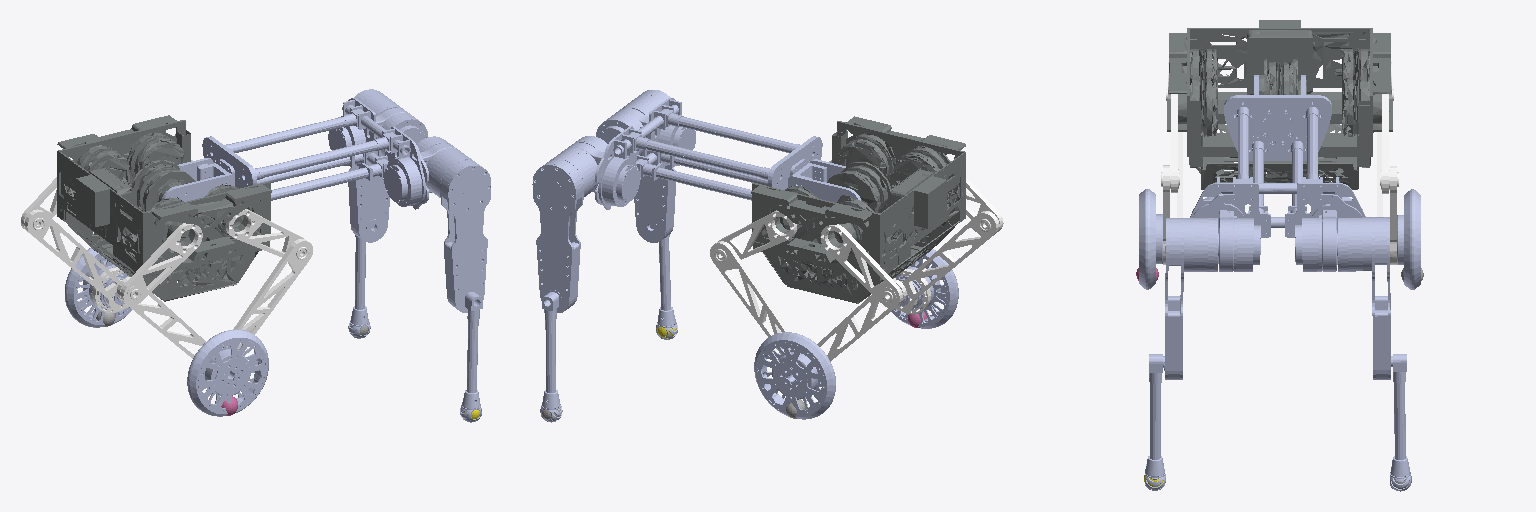
--- Render facts (derived) ---
Views: 3 orthographic renders of the robot side by side, from view 1: azimuth 30°, elevation 25°; view 2: azimuth 150°, elevation 25°; view 3: azimuth 270°, elevation 25°.
Robot: Wheel_legged_repair2 — 26 links, 25 joints (12 revolute, 6 continuous, 7 fixed); root link dummy_link; default pose: all joints at 0.
Visible links, largest first — view 1: base_link, waist_Link, Rhip_Link, Rwheel_Link, Lhip_Link, RB_hip_Link, LB_knee_Link, Lwheel_Link, RF_knee_Link, Rknee_Link, RF_hip_Link, Rabad_Link (+4 smaller); view 2: base_link, waist_Link, Lhip_Link, Lwheel_Link, Rhip_Link, LB_hip_Link, LF_knee_Link, RB_knee_Link, Rwheel_Link, Lknee_Link, LF_hip_Link, Labad_Link (+4 smaller); view 3: base_link, waist_Link, Rabad_Link, Labad_Link, Lhip_Link, Rhip_Link, Rwheel_Link, Lwheel_Link, Lknee_Link, Rknee_Link, LF_hip_Link, RF_hip_Link (+1 smaller).
Link boxes in pixels (bbox=[...]): base_link: bbox=[57, 115, 271, 301]; waist_Link: bbox=[161, 98, 425, 206]; Rhip_Link: bbox=[436, 156, 490, 312]; Rwheel_Link: bbox=[187, 329, 268, 416]; Lhip_Link: bbox=[348, 89, 390, 242]; RB_hip_Link: bbox=[120, 223, 202, 305]; LB_knee_Link: bbox=[24, 209, 128, 310]; Lwheel_Link: bbox=[65, 248, 131, 327]; RF_knee_Link: bbox=[226, 239, 312, 348]; Rknee_Link: bbox=[460, 292, 482, 422]; RF_hip_Link: bbox=[226, 209, 308, 259]; Rabad_Link: bbox=[413, 136, 467, 209]; base_link: bbox=[751, 116, 965, 303]; waist_Link: bbox=[598, 98, 860, 206]; Lhip_Link: bbox=[532, 156, 588, 312]; Lwheel_Link: bbox=[754, 332, 835, 419]; Rhip_Link: bbox=[632, 90, 675, 242]; LB_hip_Link: bbox=[820, 224, 902, 307]; LF_knee_Link: bbox=[710, 241, 819, 386]; RB_knee_Link: bbox=[895, 211, 999, 311]; Rwheel_Link: bbox=[891, 249, 958, 328]; Lknee_Link: bbox=[540, 292, 562, 422]; LF_hip_Link: bbox=[714, 210, 796, 261]; Labad_Link: bbox=[556, 136, 610, 209]; base_link: bbox=[1167, 20, 1392, 189]; waist_Link: bbox=[1190, 75, 1365, 237]; Rabad_Link: bbox=[1193, 194, 1260, 271]; Labad_Link: bbox=[1295, 195, 1362, 271]; Lhip_Link: bbox=[1362, 217, 1390, 379]; Rhip_Link: bbox=[1164, 218, 1193, 379]; Rwheel_Link: bbox=[1139, 189, 1162, 289]; Lwheel_Link: bbox=[1397, 189, 1420, 289]; Lknee_Link: bbox=[1390, 354, 1410, 491]; Rknee_Link: bbox=[1145, 354, 1164, 490]; LF_hip_Link: bbox=[1380, 94, 1398, 193]; RF_hip_Link: bbox=[1161, 94, 1179, 192].
Bounding box of the posed robot: 0.8139 × 0.51 × 0.5807 m (x, y, z).
18 mesh visuals loaded from 18 distinct referenced files (18 binary STL).

robot.urdf — Wheel_legged_repair2:
<?xml version="1.0" encoding="utf-8"?>
<!-- This URDF was automatically created by SolidWorks to URDF Exporter! Originally created by Stephen Brawner ([email redacted]) 
     Commit Version: 1.6.0-4-g7f85cfe  Build Version: 1.6.7995.38578
     For more information, please see http://wiki.ros.org/sw_urdf_exporter -->
<robot
  name="Wheel_legged_repair2">
  <gazebo>
    <plugin filename="libwheel_legged_hw_sim.so" name="gazebo_ros_control">
      <robotNamespace>/</robotNamespace>
      <robotParam>wheel_legged_description</robotParam>
      <robotSimType>ocs2/wheel_legged/LeggedHWSim</robotSimType>
    </plugin>
  </gazebo>
  <gazebo>
    <plugin filename="libgazebo_ros_p3d.so" name="p3d_base_controller">
      <alwaysOn>true</alwaysOn>
      <updateRate>1000.0</updateRate>
      <bodyName>base_link</bodyName>
      <topicName>ground_truth/state</topicName>
      <gaussianNoise>0</gaussianNoise>
      <frameName>world</frameName>
      <xyzOffsets>0 0 0</xyzOffsets>
      <rpyOffsets>0 0 0</rpyOffsets>
    </plugin>
  </gazebo>
  <link name="dummy_link">
    </link>
  <joint name="dummy_to_base_link" type="fixed">
    <parent link="dummy_link"/>
    <child link="base_link"/>
    <origin rpy="0 0 0" xyz="0 0 0"/>
  </joint>
  <link
    name="base_link">
    <inertial>
      <origin
        xyz="-0.0315927041891579 0.00071509554661818 0.0289337663641155"
        rpy="0 0 0" />
      <mass
        value="14.2740" />
      <inertia
        ixx="0.27466"
        ixy="0.00296"
        ixz="0.00836"
        iyy="0.13446"
        iyz="0.00133"
        izz="0.29099" />
    </inertial>
    <visual>
      <origin
        xyz="0 0 0"
        rpy="0 0 0" />
      <geometry>
        <mesh
          filename="package://wheel_legged_description/meshes_display/base_link.STL" />
      </geometry>
      <material
        name="">
        <color
          rgba="0.529411764705882 0.549019607843137 0.549019607843137 1" />
      </material>
    </visual>
    <collision>
      <origin
        xyz="0 0 0.02"
        rpy="0 0 0" />
      <geometry>
        <box size="0.28 0.33 0.213" />
      </geometry>
    </collision>
  </link>
  <joint name="base_imu_joint" type="fixed">
    <origin rpy="0. 0. 0." xyz="0. 0. 0."/>
    <parent link="base_link"/>
    <child link="base_imu"/>
  </joint>
  <!-- Imu link -->
  <link name="base_imu">
    <inertial>
      <mass value="0.01"/>
      <origin rpy="0 0 0" xyz="0 0 0"/>
      <inertia ixx="0.000001" ixy="0" ixz="0" iyy="0.000001" iyz="0" izz="0.000001"/>
    </inertial>
    <visual>
      <origin rpy="0 0 0" xyz="0 0 0"/>
      <geometry>
        <box size="0.015 0.015 0.004"/>
      </geometry>
    </visual>
    <material name="orange">
      <color rgba="255 108 10 255"/>
    </material>
  </link>
  <gazebo reference="base_imu">
    <material>Gazebo/Orange</material>
  </gazebo>
  <gazebo reference="base_imu_joint">
    <disableFixedJointLumping>true</disableFixedJointLumping>
  </gazebo>
  <link
    name="waist_Link">
    <inertial>
      <origin
        xyz="0.31833503254984 -0.00588440380564897 -0.0148208364273254"
        rpy="0 0 0" />
      <mass
        value="2.98" />
      <inertia
        ixx="0.02232"
        ixy="0.00027"
        ixz="0.00628"
        iyy="0.08653"
        iyz="-0.00002"
        izz="0.10216" />
    </inertial>
    <visual>
      <origin
        xyz="0 0 0"
        rpy="0 0 0" />
      <geometry>
        <mesh
          filename="package://wheel_legged_description/meshes_display/waist_Link.STL" />
      </geometry>
      <material
        name="">
        <color
          rgba="0.792156862745098 0.819607843137255 0.933333333333333 1" />
      </material>
    </visual>
    <collision>
      <origin
        xyz="0.28 0 0"
        rpy="0 0 0" />
      <geometry>
        <box size="0.56 0.24 0.1" />
      </geometry>
    </collision>
  </link>
  <joint
    name="Joint_waist"
    type="fixed">
    <origin
      xyz="0.000107023903053843 0.00535894473094398 0.0709154080084677"
      rpy="0 0 0" />
    <parent
      link="base_link" />
    <child
      link="waist_Link" />
  </joint>
  <link
    name="Labad_Link">
    <inertial>
      <origin
        xyz="-0.0059568735538047 -0.0107941359948864 -0.000171965598623203"
        rpy="0 0 0" />
      <mass
        value="1.27" />
      <inertia
        ixx="0.00270"
        ixy="0.00002"
        ixz="0.00000"
        iyy="0.00162"
        iyz="-0.00001"
        izz="0.00284" />
    </inertial>
    <visual>
      <origin
        xyz="0 0 0"
        rpy="0 0 0" />
      <geometry>
        <mesh
          filename="package://wheel_legged_description/meshes_display/Labad_Link.STL" />
      </geometry>
      <material
        name="">
        <color
          rgba="0.792156862745098 0.819607843137255 0.933333333333333 1" />
      </material>
    </visual>
    <collision>
      <origin
        xyz="0 0 0"
        rpy="1.57 0 0" />
      <geometry>
        <cylinder length="0.13" radius="0.048" />
      </geometry>
    </collision>
  </link>
  <joint
    name="Joint_Labad"
    type="revolute">
    <origin
      xyz="0.560072609936946 0.10042568308067 -0.0377386746004073"
      rpy="0 0 0" />
    <parent
      link="waist_Link" />
    <child
      link="Labad_Link" />
    <axis
      xyz="1 0 0" />
    <limit
      lower="-0.424"
      upper="1.04"
      effort="24.206"
      velocity="30" />
  </joint>
  <link
    name="Lhip_Link">
    <inertial>
      <origin
        xyz="-0.000723234483344437 -0.0046042090863776 -0.0865057935300157"
        rpy="0 0 0" />
      <mass
        value="1.02" />
      <inertia
        ixx="0.00953"
        ixy="0.00000"
        ixz="-0.00005"
        iyy="0.00994"
        iyz="0.00039"
        izz="0.00079" />
    </inertial>
    <visual>
      <origin
        xyz="0 0 0"
        rpy="0 0 0" />
      <geometry>
        <mesh
          filename="package://wheel_legged_description/meshes_display/Lhip_Link.STL" />
      </geometry>
      <material
        name="">
        <color
          rgba="0.792156862745098 0.819607843137255 0.933333333333333 1" />
      </material>
    </visual>
    <collision>
      <origin
        xyz="0 0 -0.115"
        rpy="0 0 0" />
      <geometry>
        <cylinder length="0.23" radius="0.05" />
      </geometry>
    </collision>
  </link>
  <joint
    name="Joint_Lhip"
    type="revolute">
    <origin
      xyz="-0.000174442927638796 0.0776923012893297 0.000193909756050659"
      rpy="0 0 0" />
    <parent
      link="Labad_Link" />
    <child
      link="Lhip_Link" />
    <axis
      xyz="0 1 0" />
    <limit
      lower="-0.503"
      upper="1.41"
      effort="22.76"
      velocity="30" />
  </joint>
  <link
    name="Lknee_Link">
    <inertial>
      <origin
        xyz="-0.00170647439577776 -0.0006724224018545 -0.146092965502694"
        rpy="0 0 0" />
      <mass
        value="0.18" />
      <inertia
        ixx="0.00159"
        ixy="0.00000"
        ixz="-0.00002"
        iyy="0.00159"
        iyz="0.00005"
        izz="0.00003" />
    </inertial>
    <visual>
      <origin
        xyz="0 0 0"
        rpy="0 0 0" />
      <geometry>
        <mesh
          filename="package://wheel_legged_description/meshes_display/Lknee_Link.STL" />
      </geometry>
      <material
        name="">
        <color
          rgba="0.792156862745098 0.819607843137255 0.933333333333333 1" />
      </material>
    </visual>
    <collision>
      <origin
        xyz="0 0 -0.125"
        rpy="0 0 0" />
      <geometry>
        <cylinder length="0.25" radius="0.04" />
      </geometry>
    </collision>
  </link>
  <joint
    name="Joint_Lknee"
    type="revolute">
    <origin
      xyz="-0.00165861871548567 0.03140703662 -0.23004781996907"
      rpy="0 0 0" />
    <parent
      link="Lhip_Link" />
    <child
      link="Lknee_Link" />
    <axis
      xyz="0 1 0" />
    <limit
      lower="-3.14"
      upper="0"
      effort="28"
      velocity="30" />
  </joint>

  <joint dont_collapse="true" name="LF_foot_fixed" type="fixed">
    <origin rpy="0 0 0" xyz="-0.0025 0.002 -0.232"/>
    <parent link="Lknee_Link"/>
    <child link="LF_FOOT"/>
  </joint>
  <link name="LF_FOOT">
    <visual>
      <origin rpy="0 0 0" xyz="0 0 0"/>
      <geometry>
        <sphere radius="0.02"/>
      </geometry>
      <material name=""/>
    </visual>
    <collision>
      <origin rpy="0 0 0" xyz="0 0 0"/>
      <geometry>
        <sphere radius="0.02"/>
      </geometry>
    </collision>
    <inertial>
      <mass value="0.06"/>
      <inertia ixx="9.600000000000001e-06" ixy="0.0" ixz="0.0" iyy="9.600000000000001e-06" iyz="0.0" izz="9.600000000000001e-06"/>
    </inertial>
  </link>
  <gazebo reference="LF_foot_fixed">
    <disableFixedJointLumping>true</disableFixedJointLumping>
  </gazebo>
  <gazebo reference="Labad_Link">
    <mu1>0.2</mu1>
    <mu2>0.2</mu2>
    <material>Gazebo/DarkGrey</material>
  </gazebo>
  <gazebo reference="Lhip_Link">
    <mu1>0.2</mu1>
    <mu2>0.2</mu2>
    <self_collide>0</self_collide>
    <material>Gazebo/DarkGrey</material>
    <kp value="1000000.0"/>
    <kd value="100.0"/>
  </gazebo>
  <gazebo reference="Lknee_Link">
    <mu1>0.6</mu1>
    <mu2>0.6</mu2>
    <self_collide>1</self_collide>
  </gazebo>
  <gazebo reference="LF_FOOT">
    <mu1>0.6</mu1>
    <mu2>0.6</mu2>
    <self_collide>1</self_collide>
    <material>Gazebo/DarkGrey</material>
    <kp value="1000000.0"/>
    <kd value="100.0"/>
  </gazebo>

  <transmission name="LF_HAA_tran">
    <type>transmission_interface/SimpleTransmission</type>
    <joint name="Joint_Labad">
      <hardwareInterface>hardware_interface/EffortJointInterface</hardwareInterface>
    </joint>
    <actuator name="LF_HAA_motor">
      <hardwareInterface>hardware_interface/EffortJointInterface</hardwareInterface>
      <mechanicalReduction>1</mechanicalReduction>
    </actuator>
  </transmission>
  <transmission name="LF_HFE_tran">
    <type>transmission_interface/SimpleTransmission</type>
    <joint name="Joint_Lhip">
      <hardwareInterface>hardware_interface/EffortJointInterface</hardwareInterface>
    </joint>
    <actuator name="LF_HFE_motor">
      <hardwareInterface>hardware_interface/EffortJointInterface</hardwareInterface>
      <mechanicalReduction>1</mechanicalReduction>
    </actuator>
  </transmission>
  <transmission name="LF_KFE_tran">
    <type>transmission_interface/SimpleTransmission</type>
    <joint name="Joint_Lknee">
      <hardwareInterface>hardware_interface/EffortJointInterface</hardwareInterface>
    </joint>
    <actuator name="LF_KFE_motor">
      <hardwareInterface>hardware_interface/EffortJointInterface</hardwareInterface>
      <mechanicalReduction>1</mechanicalReduction>
    </actuator>
  </transmission>

  <link
    name="Rabad_Link">
    <inertial>
      <origin
        xyz="-0.00605931973669505 0.0107734945712203 0.000594365938715979"
        rpy="0 0 0" />
      <mass
        value="1.27" />
      <inertia
        ixx="0.00270"
        ixy="-0.00002"
        ixz="0.00000"
        iyy="0.00162"
        iyz="0.00001"
        izz="0.00284" />
    </inertial>
    <visual>
      <origin
        xyz="0 0 0"
        rpy="0 0 0" />
      <geometry>
        <mesh
          filename="package://wheel_legged_description/meshes_display/Rabad_Link.STL" />
      </geometry>
      <material
        name="">
        <color
          rgba="0.792156862745098 0.819607843137255 0.933333333333333 1" />
      </material>
    </visual>
    <collision>
      <origin
        xyz="0 0 0"
        rpy="1.57 0 0" />
      <geometry>
        <cylinder length="0.13" radius="0.048" />
      </geometry>
    </collision>
  </link>
  <joint
    name="Joint_Rabad"
    type="revolute">
    <origin
      xyz="0.559972609936946 -0.113109069230096 -0.0392386745963477"
      rpy="0 0 0" />
    <parent
      link="waist_Link" />
    <child
      link="Rabad_Link" />
    <axis
      xyz="1 0 0" />
    <limit
      lower="-1.04"
      upper="0.424"
      effort="24.206"
      velocity="30" />
  </joint>
  <link
    name="Rhip_Link">
    <inertial>
      <origin
        xyz="-0.000328070545023595 0.00342241500343016 -0.0865491802752725"
        rpy="0 0 0" />
      <mass
        value="1.02" />
      <inertia
        ixx="0.00953"
        ixy="0.00000"
        ixz="-0.00005"
        iyy="0.00994"
        iyz="-0.00041"
        izz="0.00079" />
    </inertial>
    <visual>
      <origin
        xyz="0 0 0"
        rpy="0 0 0" />
      <geometry>
        <mesh
          filename="package://wheel_legged_description/meshes_display/Rhip_Link.STL" />
      </geometry>
      <material
        name="">
        <color
          rgba="0.792156862745098 0.819607843137255 0.933333333333333 1" />
      </material>
    </visual>
    <collision>
      <origin
        xyz="0 0 -0.115"
        rpy="0 0 0" />
      <geometry>
        <cylinder length="0.23" radius="0.05" />
      </geometry>
    </collision>
  </link>
  <joint
    name="Joint_Rhip"
    type="revolute">
    <origin
      xyz="-7.14113841855379E-05 -0.0767142451699043 0.000899684818292834"
      rpy="0 0 0" />
    <parent
      link="Rabad_Link" />
    <child
      link="Rhip_Link" />
    <axis
      xyz="0 1 0" />
    <limit
      lower="-0.503"
      upper="1.41"
      effort="22.76"
      velocity="30" />
  </joint>
  <link
    name="Rknee_Link">
    <inertial>
      <origin
        xyz="-0.004592774342979 -0.000135154398930304 -0.146286475047147"
        rpy="0 0 0" />
      <mass
        value="0.18" />
      <inertia
        ixx="0.00159"
        ixy="0.00000"
        ixz="-0.00005"
        iyy="0.00159"
        iyz="-0.00005"
        izz="0.00003" />
    </inertial>
    <visual>
      <origin
        xyz="0 0 0"
        rpy="0 0 0" />
      <geometry>
        <mesh
          filename="package://wheel_legged_description/meshes_display/Rknee_Link.STL" />
      </geometry>
      <material
        name="">
        <color
          rgba="0.792156862745098 0.819607843137255 0.933333333333333 1" />
      </material>
    </visual>
    <collision>
      <origin
        xyz="0 0 -0.125"
        rpy="0 0 0" />
      <geometry>
        <cylinder length="0.25" radius="0.04" />
      </geometry>
    </collision>
  </link>
  <joint
    name="Joint_Rknee"
    type="revolute">
    <origin
      xyz="-0.00114049819299789 -0.03238909343 -0.229761642984864"
      rpy="0 0 0" />
    <parent
      link="Rhip_Link" />
    <child
      link="Rknee_Link" />
    <axis
      xyz="0 1 0" />
    <limit
      lower="-3.14"
      upper="0"
      effort="28"
      velocity="30" />
  </joint>
  <joint dont_collapse="true" name="RF_foot_fixed" type="fixed">
    <origin rpy="0 0 0" xyz="-0.007 -0.002 -0.232"/>
    <parent link="Rknee_Link"/>
    <child link="RF_FOOT"/>
  </joint>
  <link name="RF_FOOT">
    <visual>
      <origin rpy="0 0 0" xyz="0 0 0"/>
      <geometry>
        <sphere radius="0.02"/>
      </geometry>
      <material name=""/>
    </visual>
    <collision>
      <origin rpy="0 0 0" xyz="0 0 0"/>
      <geometry>
        <sphere radius="0.02"/>
      </geometry>
    </collision>
    <inertial>
      <mass value="0.06"/>
      <inertia ixx="9.600000000000001e-06" ixy="0.0" ixz="0.0" iyy="9.600000000000001e-06" iyz="0.0" izz="9.600000000000001e-06"/>
    </inertial>
  </link>
  <gazebo reference="RF_foot_fixed">
    <disableFixedJointLumping>true</disableFixedJointLumping>
  </gazebo>
  <gazebo reference="Rabad_Link">
    <mu1>0.2</mu1>
    <mu2>0.2</mu2>
    <material>Gazebo/DarkGrey</material>
  </gazebo>
  <gazebo reference="Rhip_Link">
    <mu1>0.2</mu1>
    <mu2>0.2</mu2>
    <self_collide>0</self_collide>
    <material>Gazebo/DarkGrey</material>
    <kp value="1000000.0"/>
    <kd value="100.0"/>
  </gazebo>
  <gazebo reference="Rknee_Link">
    <mu1>0.6</mu1>
    <mu2>0.6</mu2>
    <self_collide>1</self_collide>
  </gazebo>
  <gazebo reference="RF_FOOT">
    <mu1>0.6</mu1>
    <mu2>0.6</mu2>
    <self_collide>1</self_collide>
    <material>Gazebo/DarkGrey</material>
    <kp value="1000000.0"/>
    <kd value="100.0"/>
  </gazebo>
  <transmission name="RF_HAA_tran">
    <type>transmission_interface/SimpleTransmission</type>
    <joint name="Joint_Rabad">
      <hardwareInterface>hardware_interface/EffortJointInterface</hardwareInterface>
    </joint>
    <actuator name="RF_HAA_motor">
      <hardwareInterface>hardware_interface/EffortJointInterface</hardwareInterface>
      <mechanicalReduction>1</mechanicalReduction>
    </actuator>
  </transmission>
  <transmission name="RF_HFE_tran">
    <type>transmission_interface/SimpleTransmission</type>
    <joint name="Joint_Rhip">
      <hardwareInterface>hardware_interface/EffortJointInterface</hardwareInterface>
    </joint>
    <actuator name="RF_HFE_motor">
      <hardwareInterface>hardware_interface/EffortJointInterface</hardwareInterface>
      <mechanicalReduction>1</mechanicalReduction>
    </actuator>
  </transmission>
  <transmission name="RF_KFE_tran">
    <type>transmission_interface/SimpleTransmission</type>
    <joint name="Joint_Rknee">
      <hardwareInterface>hardware_interface/EffortJointInterface</hardwareInterface>
    </joint>
    <actuator name="RF_KFE_motor">
      <hardwareInterface>hardware_interface/EffortJointInterface</hardwareInterface>
      <mechanicalReduction>1</mechanicalReduction>
    </actuator>
  </transmission>
  <link
    name="LF_hip_Link">
    <inertial>
      <origin
        xyz="0.0715859473019776 -0.000613057937742634 -0.0490776481210589"
        rpy="0 0 0" />
      <mass
        value="0.177077351601831" />
      <inertia
        ixx="0.00025"
        ixy="-0.00001"
        ixz="0.00028"
        iyy="0.00070"
        iyz="0.00000"
        izz="0.00046" />
    </inertial>
    <visual>
      <origin
        xyz="0 0 0"
        rpy="0 0 0" />
      <geometry>
        <mesh
          filename="package://wheel_legged_description/meshes_display/LF_hip_Link.STL" />
      </geometry>
      <material
        name="">
        <color
          rgba="1 1 1 1" />
      </material>
    </visual>
    <collision>
      <origin
        xyz="0.06 0 -0.04"
        rpy="0 0.60 0" />
      <geometry>
        <box size="0.2 0.02 0.05"/>
      </geometry>
    </collision>
  </link>
  <joint
    name="Joint_LFhip"
    type="revolute">
    <origin
      xyz="0.0601110073096042 0.191428944730944 0.0692325389969545"
      rpy="0 0 0" />
    <parent
      link="base_link" />
    <child
      link="LF_hip_Link" />
    <axis
      xyz="0 1 0" />
    <limit
      lower="-0.93"
      upper="0.45"
      effort="100"
      velocity="30" />
  </joint>
  <link
    name="LF_knee_Link">
    <inertial>
      <origin
        xyz="-0.0879917500835232 0.00698974587289122 -0.0980884731139554"
        rpy="0 0 0" />
      <mass
        value="0.220636590729618" />
      <inertia
        ixx="0.00125267041946443"
        ixy="1.33246159780275E-07"
        ixz="0.00103815405803474"
        iyy="0.00224978424446147"
        iyz="1.5084856807172E-07"
        izz="0.0010024000146733" />
    </inertial>
    <visual>
      <origin
        xyz="0 0 0"
        rpy="0 0 0" />
      <geometry>
        <mesh
          filename="package://wheel_legged_description/meshes_display/LF_knee_Link.STL" />
      </geometry>
      <material
        name="">
        <color
          rgba="1 1 1 1" />
      </material>
    </visual>
    <collision>
      <origin
        xyz="0 0 0"
        rpy="0 0 0" />
      <geometry>
        <mesh
          filename="package://wheel_legged_description/meshes_display/LF_knee_Link.STL" />
      </geometry>
    </collision>
  </link>
  <joint
    name="Joint_LFknee"
    type="continuous">
    <origin
      xyz="0.124002084415241 0.00617999999999999 -0.0847036935476426"
      rpy="0 0 0" />
    <parent
      link="LF_hip_Link" />
    <child
      link="LF_knee_Link" />
    <axis
      xyz="0 1 0" />
    <limit
      effort="100"
      velocity="30" />
  </joint>
  <!-- <link name="LH_FOOT_axis">
    <inertial>
      <origin
        xyz="-3.0131E-05 -0.011025 4.8139E-05"
        rpy="0 0 0" />
      <mass
        value="0.001" />
      <inertia
        ixx="0.000000001"
        ixy="0.000000001"
        ixz="0.000000001"
        iyy="0.000000001"
        iyz="0.000000001"
        izz="0.000000001" />
    </inertial>
  </link>
  <joint 
    name="LH_FOOT_pos"
    type="fixed">
    <origin
      xyz="-0.17978 0.0402 -0.20147"
      rpy="0 0 0"/>
    <parent
      link="LF_knee_Link" />
    <child
      link="LH_FOOT_axis" />
  </joint> -->
  <link name="laxis">
    <inertial>
      <origin
        xyz="-3.0131E-05 -0.011025 4.8139E-05"
        rpy="0 0 0" />
      <mass
        value="0.001" />
      <inertia
        ixx="0.000000001"
        ixy="0.000000001"
        ixz="0.000000001"
        iyy="0.000000001"
        iyz="0.000000001"
        izz="0.000000001" />
    </inertial>
    <visual>
      <origin
        xyz="0 -0.045 0"
        rpy="0 1.5707963 1.5707963" />
      <geometry>
        <cylinder radius="0.005" length="0.05"/>  
      </geometry>
      <material
        name="">
        <color
          rgba="0 0 0 1" />
      </material>
    </visual>
  </link>
  <joint
    name="Joint_laxis"
    type="continuous">
    <origin
      xyz="-0.17978 0.0402 -0.20147"
      rpy="0 0 0"/>
    <parent
      link="LF_knee_Link" />
    <child
      link="laxis" />
    <axis
      xyz="0 1 0" />
    <limit
      effort="100"
      velocity="30" />
  </joint>
  <joint dont_collapse="true" name="LH_foot_fixed" type="fixed">
    <origin rpy="0 0 0" xyz="-0.18 0.04 -0.27"/>
    <parent link="LF_knee_Link"/>
    <child link="LH_FOOT"/>
  </joint>
  <link name="LH_FOOT">
    <visual>
      <origin rpy="0 0 0" xyz="0 0 0"/>
      <geometry>
        <sphere radius="0.02"/>
      </geometry>
      <material name=""/>
    </visual>
    <collision>
      <origin rpy="0 0 0" xyz="0 0 0"/>
      <geometry>
        <sphere radius="0.02"/>
      </geometry>
    </collision>
    <inertial>
      <mass value="0.06"/>
      <inertia ixx="9.600000000000001e-06" ixy="0.0" ixz="0.0" iyy="9.600000000000001e-06" iyz="0.0" izz="9.600000000000001e-06"/>
    </inertial>
  </link>
  <link
    name="Lwheel_Link">
    <inertial>
      <origin
        xyz="0 0 0"
        rpy="0 0 0" />
      <mass
        value="1.225067339568551" />
      <inertia
        ixx="0.0014368"
        ixy="-0.0000001"
        ixz="0.00000"
        iyy="0.0010985"
        iyz="-0.0000002"
        izz="0.0010987" />
    </inertial>
    <visual>
      <origin
        xyz="0 0 0"
        rpy="0 0 0" />
      <geometry>
        <mesh
          filename="package://wheel_legged_description/meshes_display/Lwheel_Link.STL" />
      </geometry>
      <material
        name="">
        <color
          rgba="0.792156862745098 0.819607843137255 0.933333333333333 1" />
      </material>
    </visual>
    <collision>
      <origin
        xyz="0 0 0"
        rpy="1.57 0 0" />
      <geometry>
        <cylinder radius="0.085" length="0.04"/>
      </geometry>
    </collision>
  </link>
  <joint
    name="Joint_LWheel"
    type="revolute">
    <origin
      xyz="0 0 0"
      rpy="0 0 0" />
    <parent
      link="laxis" />
    <child
      link="Lwheel_Link" />
    <axis
      xyz="0 1 0" />
    <limit
      lower="0"
      upper="0"
      effort="100"
      velocity="30" />
  </joint>
  <link
    name="LB_hip_Link">
    <inertial>
      <origin
        xyz="-0.120705431995635 -0.0034120517742835 -0.0887419692390345"
        rpy="0 0 0" />
      <mass
        value="0.18" />
      <inertia
        ixx="0.00003"
        ixy="7.3917E-11"
        ixz="-5.8848E-10"
        iyy="0.00002"
        iyz="-4.7929E-11"
        izz="0.00003" />
    </inertial>
    <visual>
      <origin
        xyz="0 0 0"
        rpy="0 0 0" />
      <geometry>
        <mesh
          filename="package://wheel_legged_description/meshes_display/LB_hip_Link.STL" />
      </geometry>
      <material
        name="">
        <color
          rgba="1 1 1 1" />
      </material>
    </visual>
    <collision>
      <origin
        xyz="0 0 0"
        rpy="0 0 0" />
      <geometry>
        <mesh
          filename="package://wheel_legged_description/meshes_display/LB_hip_Link.STL" />
      </geometry>
    </collision>
  </link>
  <joint
    name="Joint_LBhip"
    type="revolute">
    <origin
      xyz="-0.0598896717289598 0.194428944730944 0.068607253265332"
      rpy="0 0 0" />
    <parent
      link="base_link" />
    <child
      link="LB_hip_Link" />
    <axis
      xyz="0 1 0" />
    <limit
      lower="-0.45"
      upper="0.93"
      effort="100"
      velocity="30" />
  </joint>
  <link
    name="LB_knee_Link">
    <inertial>
      <origin
        xyz="0.0912449552358761 -0.00700003329445006 -0.0973229658683606"
        rpy="0 0 0" />
      <mass
        value="0.225120563239333" />
      <inertia
        ixx="0.0012034431480915"
        ixy="4.343972488372E-10"
        ixz="0.00106891333882648"
        iyy="0.00225441651432823"
        iyz="-2.1009592482083E-10"
        izz="0.00105637636039267" />
    </inertial>
    <visual>
      <origin
        xyz="0 0 0"
        rpy="0 0 0" />
      <geometry>
        <mesh
          filename="package://wheel_legged_description/meshes_display/LB_knee_Link.STL" />
      </geometry>
      <material
        name="">
        <color
          rgba="1 1 1 1" />
      </material>
    </visual>
    <collision>
      <origin
        xyz="0 0 0"
        rpy="0 0 0" />
      <geometry>
        <mesh
          filename="package://wheel_legged_description/meshes_display/LB_knee_Link.STL" />
      </geometry>
    </collision>
  </link>
  <joint
    name="Joint_LBknee"
    type="continuous">
    <origin
      xyz="-0.120708306533441 -0.00731999999587096 -0.088740397586716"
      rpy="0 0 0" />
    <parent
      link="LB_hip_Link" />
    <child
      link="LB_knee_Link" />
    <axis
      xyz="0 1 0" />
    <limit
      effort="100"
      velocity="30" />
  </joint>

  <gazebo reference="LH_foot_fixed">
    <disableFixedJointLumping>true</disableFixedJointLumping>
  </gazebo>
  <gazebo reference="LF_hip_Link">
    <mu1>0.5</mu1>
    <mu2>0.5</mu2>
    <material>Gazebo/DarkGrey</material>
  </gazebo>
  <gazebo reference="LB_hip_Link">
    <mu1>0.5</mu1>
    <mu2>0.5</mu2>
    <self_collide>0</self_collide>
    <material>Gazebo/DarkGrey</material>
    <kp value="1000000.0"/>
    <kd value="100.0"/>
  </gazebo>
  <gazebo reference="Lwheel_Link">
    <mu1>1</mu1>
    <mu2>1</mu2>
    <self_collide>1</self_collide>
  </gazebo>
  <gazebo reference="LH_FOOT">
    <mu1>0.6</mu1>
    <mu2>0.6</mu2>
    <self_collide>1</self_collide>
    <material>Gazebo/DarkGrey</material>
    <kp value="1000000.0"/>
    <kd value="100.0"/>
  </gazebo>
  <transmission name="LH_HAA_tran">
    <type>transmission_interface/SimpleTransmission</type>
    <joint name="Joint_LFhip">
      <hardwareInterface>hardware_interface/EffortJointInterface</hardwareInterface>
    </joint>
    <actuator name="LH_HAA_motor">
      <hardwareInterface>hardware_interface/EffortJointInterface</hardwareInterface>
      <mechanicalReduction>1</mechanicalReduction>
    </actuator>
  </transmission>
  <transmission name="LH_HFE_tran">
    <type>transmission_interface/SimpleTransmission</type>
    <joint name="Joint_LBhip">
      <hardwareInterface>hardware_interface/EffortJointInterface</hardwareInterface>
    </joint>
    <actuator name="LH_HFE_motor">
      <hardwareInterface>hardware_interface/EffortJointInterface</hardwareInterface>
      <mechanicalReduction>1</mechanicalReduction>
    </actuator>
  </transmission>
  <transmission name="LH_KFE_tran">
    <type>transmission_interface/SimpleTransmission</type>
    <joint name="Joint_LWheel">
      <hardwareInterface>hardware_interface/EffortJointInterface</hardwareInterface>
    </joint>
    <actuator name="LH_KFE_motor">
      <hardwareInterface>hardware_interface/EffortJointInterface</hardwareInterface>
      <mechanicalReduction>1</mechanicalReduction>
    </actuator>
  </transmission>
  <link
    name="RF_hip_Link">
    <inertial>
      <origin
        xyz="0.0720853679381507 0.000793069219928833 -0.047705511647015"
        rpy="0 0 0" />
      <mass
        value="0.17707713097992" />
      <inertia
        ixx="0.00024"
        ixy="0.00001"
        ixz="0.00027"
        iyy="0.00070"
        iyz="1.1622E-07"
        izz="0.00047" />
    </inertial>
    <visual>
      <origin
        xyz="0 0 0"
        rpy="0 0 0" />
      <geometry>
        <mesh
          filename="package://wheel_legged_description/meshes_display/RF_hip_Link.STL" />
      </geometry>
      <material
        name="">
        <color
          rgba="1 1 1 1" />
      </material>
    </visual>
    <collision>
      <origin
        xyz="0 0 0"
        rpy="0 0 0" />
      <geometry>
        <mesh
          filename="package://wheel_legged_description/meshes_display/RF_hip_Link.STL" />
      </geometry>
    </collision>
  </link>
  <joint
    name="Joint_RFhip"
    type="revolute">
    <origin
      xyz="0.0601108731781712 -0.186391055269056 0.0686016436558831"
      rpy="0 0 0" />
    <parent
      link="base_link" />
    <child
      link="RF_hip_Link" />
    <axis
      xyz="0 1 0" />
    <limit
      lower="-0.93"
      upper="0.45"
      effort="100"
      velocity="30" />
  </joint>
  <link
    name="RF_knee_Link">
    <inertial>
      <origin
        xyz="-0.0876168385301678 -0.00698974586358514 -0.098431126850286"
        rpy="0 0 0" />
      <mass
        value="0.220636564220652" />
      <inertia
        ixx="0.00123658340346104"
        ixy="-1.34979068507616E-07"
        ixz="-0.00103996649234408"
        iyy="0.00224978360491325"
        iyz="-1.49299991935938E-07"
        izz="0.00101848639074699" />
    </inertial>
    <visual>
      <origin
        xyz="0 0 0"
        rpy="0 0 0" />
      <geometry>
        <mesh
          filename="package://wheel_legged_description/meshes_display/RF_knee_Link.STL" />
      </geometry>
      <material
        name="">
        <color
          rgba="1 1 1 1" />
      </material>
    </visual>
    <collision>
      <origin
        xyz="0 0 0"
        rpy="0 0 0" />
      <geometry>
        <mesh
          filename="package://wheel_legged_description/meshes_display/RF_knee_Link.STL" />
      </geometry>
    </collision>
  </link>
  <joint
    name="Joint_RFknee"
    type="continuous">
    <origin
      xyz="0.124790770494982 -0.00600000000000001 -0.0829023604540317"
      rpy="0 0 0" />
    <parent
      link="RF_hip_Link" />
    <child
      link="RF_knee_Link" />
    <axis
      xyz="0 1 0" />
    <limit
      effort="100"
      velocity="30" />
  </joint>
  <!-- <link name="RH_FOOT_axis">
    <inertial>
      <origin
        xyz="5.4339E-05 0.011025 -1.65E-05"
        rpy="0 0 0" />
      <mass
        value="0.001" />
      <inertia
        ixx="0.000000001"
        ixy="0.000000001"
        ixz="0.000000001"
        iyy="0.000000001"
        iyz="0.000000001"
        izz="0.000000001" />
    </inertial>
  </link>
  <joint 
    name="RH_FOOT_pos"
    type="fixed">
    <origin
      xyz="-0.180074686761231 -0.0402 -0.201230183724276"
      rpy="0 0 0"/>
    <parent
      link="RF_knee_Link" />
    <child
      link="RH_FOOT_axis" />
  </joint> -->
  <link name="raxis">
    <inertial>
      <origin 
        xyz="5.4339E-05 0.011025 -1.65E-05"
        rpy="0 0 0" />
      <mass
        value="0.001" />
      <inertia
        ixx="0.000000001"
        ixy="0.000000001"
        ixz="0.000000001"
        iyy="0.000000001"
        iyz="0.000000001"
        izz="0.000000001" />
    </inertial>
    <visual>
      <origin
        xyz="0 0.045 0"
        rpy="0 1.5707963 1.5707963" />
      <geometry>
        <cylinder radius="0.005" length="0.05"/>  
      </geometry>
      <material
        name="">
        <color
          rgba="0 0 0 1" />
      </material>
    </visual>
  </link>
  <joint
    name="Joint_raxis"
    type="continuous">
    <origin
      xyz="-0.180074686761231 -0.0402 -0.201230183724276"
      rpy="0 0 0"/>
    <parent
      link="RF_knee_Link" />
    <child
      link="raxis" />
    <axis
      xyz="0 1 0" />
    <limit
      effort="100"
      velocity="30" />
  </joint>
  
  <joint dont_collapse="true" name="RH_foot_fixed" type="fixed">
    <origin rpy="0 0 0" xyz="-0.18 -0.04 -0.27"/>
    <parent link="RF_knee_Link"/>
    <child link="RH_FOOT"/>
  </joint>
  <link name="RH_FOOT">
    <visual>
      <origin rpy="0 0 0" xyz="0 0 0"/>
      <geometry>
        <sphere radius="0.02"/>
      </geometry>
      <material name=""/>
    </visual>
    <collision>
      <origin rpy="0 0 0" xyz="0 0 0"/>
      <geometry>
        <sphere radius="0.02"/>
      </geometry>
    </collision>
    <inertial>
      <mass value="0.06"/>
      <inertia ixx="9.600000000000001e-06" ixy="0.0" ixz="0.0" iyy="9.600000000000001e-06" iyz="0.0" izz="9.600000000000001e-06"/>
    </inertial>
  </link>
  <link
    name="Rwheel_Link">
    <inertial>
      <origin
        xyz="0 0 0"
        rpy="0 0 0" />
      <mass
        value="1.225067339568551" />
      <inertia
        ixx="0.0014368"
        ixy="-0.0000001"
        ixz="0.00000"
        iyy="0.0010985"
        iyz="-0.0000002"
        izz="0.0010987" />
    </inertial>
    <visual>
      <origin
        xyz="0 0 0"
        rpy="0 0 0" />
      <geometry>
        <mesh
          filename="package://wheel_legged_description/meshes_display/Rwheel_Link.STL" />
      </geometry>
      <material
        name="">
        <color
          rgba="0.792156862745098 0.819607843137255 0.933333333333333 1" />
      </material>
    </visual>
    <collision>
      <origin
        xyz="0 0 0"
        rpy="0 0 0" />
      <geometry>
        <mesh
          filename="package://wheel_legged_description/meshes_display/Rwheel_Link.STL" />
      </geometry>
    </collision>
  </link>
  <joint
    name="Joint_RWheel"
    type="revolute">
    <origin
      xyz="0 0 0"
      rpy="0 0 0" />
    <parent
      link="raxis" />
    <child
      link="Rwheel_Link" />
    <axis
      xyz="0 1 0" />
    <limit
      lower="0"
      upper="0"
      effort="100"
      velocity="30" />
  </joint>
  <link
    name="RB_hip_Link">
    <inertial>
      <origin
        xyz="-0.12105125340948 0.00359177541416372 -0.088907033663831"
        rpy="0 0 0" />
      <mass
        value="0.18" />
      <inertia
        ixx="0.00003"
        ixy="0"
        ixz="0.00000"
        iyy="0.00002"
        iyz="0"
        izz="0.00003" />
    </inertial>
    <visual>
      <origin
        xyz="0 0 0"
        rpy="0 0 0" />
      <geometry>
        <mesh
          filename="package://wheel_legged_description/meshes_display/RB_hip_Link.STL" />
      </geometry>
      <material
        name="">
        <color
          rgba="1 1 1 1" />
      </material>
    </visual>
    <collision>
      <origin
        xyz="0 0 0"
        rpy="0 0 0" />
      <geometry>
        <mesh
          filename="package://wheel_legged_description/meshes_display/RB_hip_Link.STL" />
      </geometry>
    </collision>
  </link>
  <joint
    name="Joint_RBhip"
    type="revolute">
    <origin
      xyz="-0.0598896998936048 -0.189391055269056 0.0692431889167757"
      rpy="0 0 0" />
    <parent
      link="base_link" />
    <child
      link="RB_hip_Link" />
    <axis
      xyz="0 1 0" />
    <limit
      lower="-0.45"
      upper="0.93"
      effort="100"
      velocity="30" />
  </joint>
  <link
    name="RB_knee_Link">
    <inertial>
      <origin
        xyz="0.0919309000618504 0.00700003329444926 -0.0966663306720594"
        rpy="0 0 0" />
      <mass
        value="0.225120559665859" />
      <inertia
        ixx="0.00117918932813021"
        ixy="-1.84362849788354E-10"
        ixz="0.00107030572889462"
        iyy="0.0022544164735451"
        iyz="4.46199131705546E-10"
        izz="0.00108063013951937" />
    </inertial>
    <visual>
      <origin
        xyz="0 0 0"
        rpy="0 0 0" />
      <geometry>
        <mesh
          filename="package://wheel_legged_description/meshes_display/RB_knee_Link.STL" />
      </geometry>
      <material
        name="">
        <color
          rgba="1 1 1 1" />
      </material>
    </visual>
    <collision>
      <origin
        xyz="0 0 0"
        rpy="0 0 0" />
      <geometry>
        <mesh
          filename="package://wheel_legged_description/meshes_display/RB_knee_Link.STL" />
      </geometry>
    </collision>
  </link>
  <joint
    name="Joint_RBknee"
    type="continuous">
    <origin
      xyz="-0.121050541990562 0.00750000000412893 -0.0889105126724281"
      rpy="0 0 0" />
    <parent
      link="RB_hip_Link" />
    <child
      link="RB_knee_Link" />
    <axis
      xyz="0 1 0" />
    <limit
      effort="100"
      velocity="30" />
  </joint>
  <gazebo reference="RH_foot_fixed">
    <disableFixedJointLumping>true</disableFixedJointLumping>
  </gazebo>
  <gazebo reference="RF_hip_Link">
    <mu1>0.5</mu1>
    <mu2>0.5</mu2>
    <material>Gazebo/DarkGrey</material>
  </gazebo>
  <gazebo reference="RB_hip_Link">
    <mu1>0.5</mu1>
    <mu2>0.5</mu2>
    <self_collide>0</self_collide>
    <material>Gazebo/DarkGrey</material>
    <kp value="1000000.0"/>
    <kd value="100.0"/>
  </gazebo>
  <gazebo reference="Rwheel_Link">
    <mu1>1</mu1>
    <mu2>1</mu2>
    <self_collide>1</self_collide>
  </gazebo>
  <gazebo reference="RH_FOOT">
    <mu1>0.6</mu1>
    <mu2>0.6</mu2>
    <self_collide>1</self_collide>
    <material>Gazebo/DarkGrey</material>
    <kp value="1000000.0"/>
    <kd value="100.0"/>
  </gazebo>
  <transmission name="RH_HAA_tran">
    <type>transmission_interface/SimpleTransmission</type>
    <joint name="Joint_RFhip">
      <hardwareInterface>hardware_interface/EffortJointInterface</hardwareInterface>
    </joint>
    <actuator name="RH_HAA_motor">
      <hardwareInterface>hardware_interface/EffortJointInterface</hardwareInterface>
      <mechanicalReduction>1</mechanicalReduction>
    </actuator>
  </transmission>
  <transmission name="RH_HFE_tran">
    <type>transmission_interface/SimpleTransmission</type>
    <joint name="Joint_RBhip">
      <hardwareInterface>hardware_interface/EffortJointInterface</hardwareInterface>
    </joint>
    <actuator name="RH_HFE_motor">
      <hardwareInterface>hardware_interface/EffortJointInterface</hardwareInterface>
      <mechanicalReduction>1</mechanicalReduction>
    </actuator>
  </transmission>
  <transmission name="RH_KFE_tran">
    <type>transmission_interface/SimpleTransmission</type>
    <joint name="Joint_RWheel">
      <hardwareInterface>hardware_interface/EffortJointInterface</hardwareInterface>
    </joint>
    <actuator name="RH_KFE_motor">
      <hardwareInterface>hardware_interface/EffortJointInterface</hardwareInterface>
      <mechanicalReduction>1</mechanicalReduction>
    </actuator>
  </transmission>
  <gazebo>
    <plugin name="Myrobot_ClosedLoopPlugin" filename="libpegasus_gazebo_closed_loop_plugin.so">
      <joint>Joint_laxis</joint>
      <child>laxis</child>
      <parent>LB_knee_Link</parent>
      <position>0.00 0.00 0.00</position>
      <rotation>0.00 -0.00 0.00</rotation>
    </plugin>
  </gazebo>
  <gazebo>
    <plugin name="Myrobot_ClosedLoopPlugin" filename="libpegasus_gazebo_closed_loop_plugin.so">
      <joint>Joint_raxis</joint>
      <child>raxis</child>
      <parent>RB_knee_Link</parent>
      <position>0.00 0.00 0.00</position>
      <rotation>0.00 -0.00 0.00</rotation>
    </plugin>
  </gazebo>
</robot>
